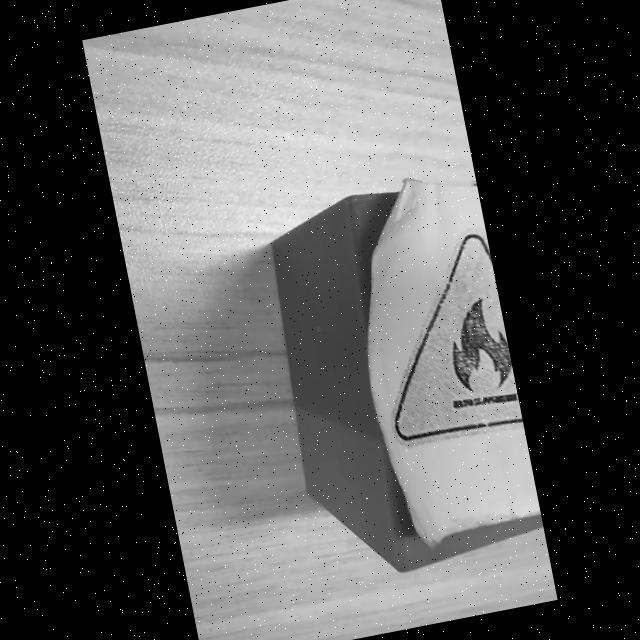Fire: (395, 234, 523, 442)
